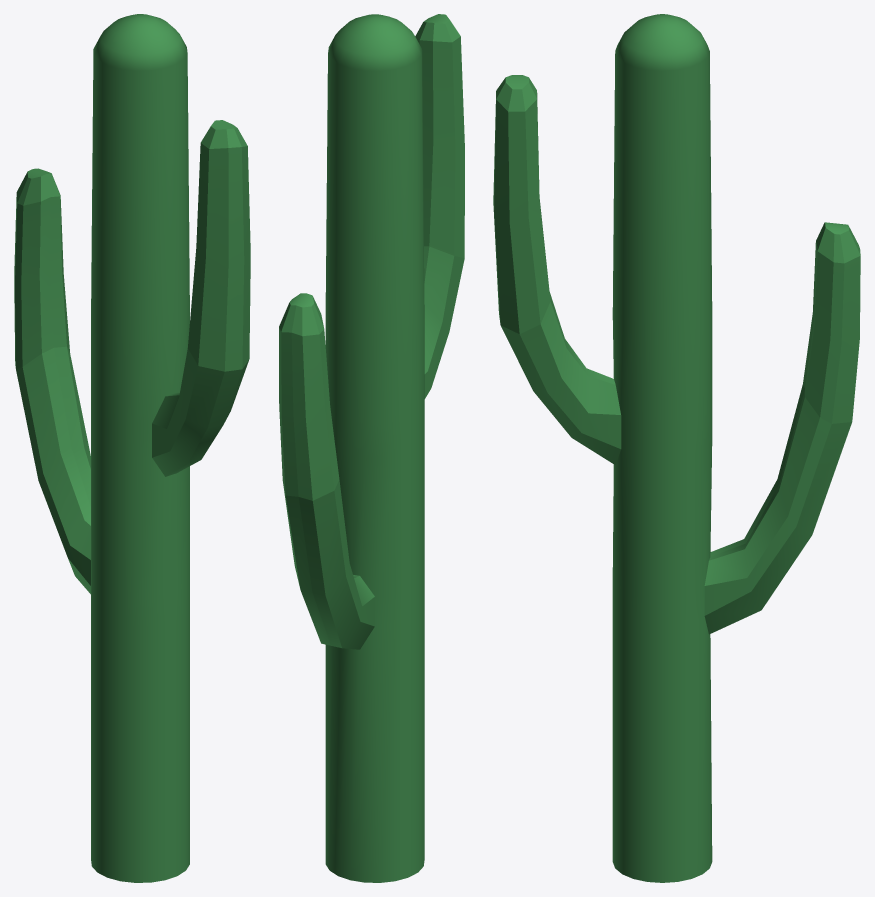
The model's file is Cactus.fbx.
The picture shows the model from 3 angles, left to right: view 1: azimuth 30°, elevation 25°; view 2: azimuth 150°, elevation 25°; view 3: azimuth 270°, elevation 25°; orthographic projection.
Parts seen in each view (by area): view 1: pCylinder1; view 2: pCylinder1; view 3: pCylinder1.
Boxes of the visible parts, x1=… form: pCylinder1: x1=14, y1=14, x2=250, y2=882; pCylinder1: x1=279, y1=14, x2=464, y2=882; pCylinder1: x1=493, y1=14, x2=860, y2=882.
Bounding box in the file's own units: 1.12 × 10.43 × 4.12.
